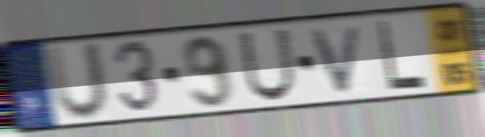3: (109, 37, 162, 119)
9: (181, 33, 235, 110)
L: (376, 18, 429, 93)
U: (44, 39, 111, 123), (237, 26, 297, 104)
V: (309, 22, 366, 96)
